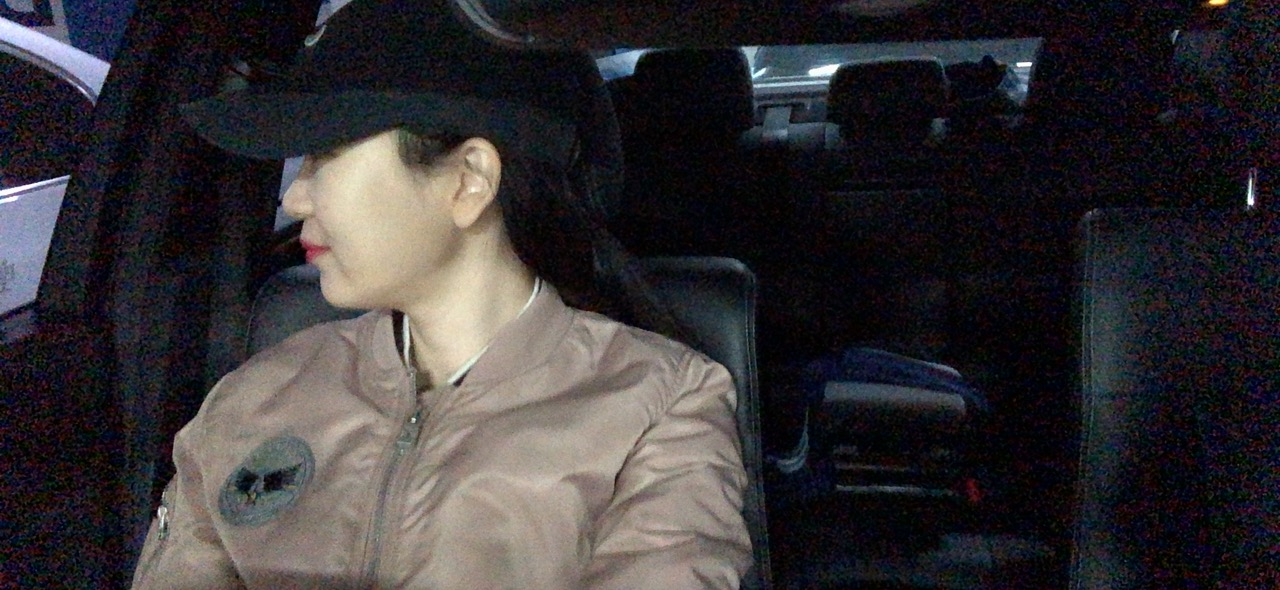left: (194, 35, 580, 391)
